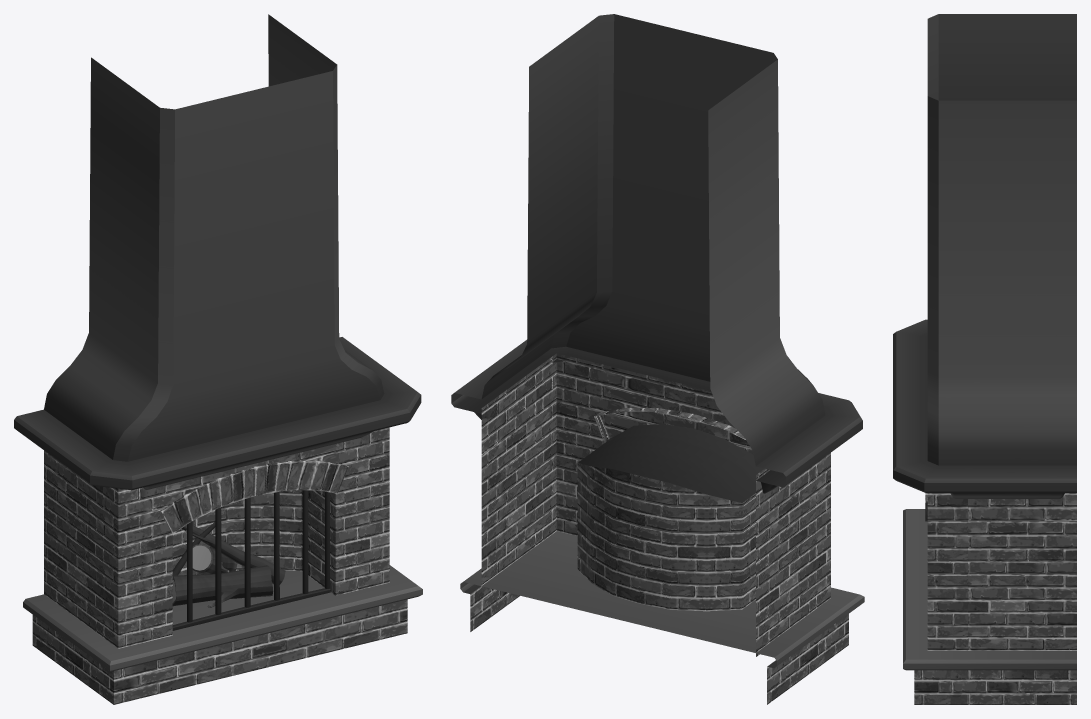
The model's file is Fireplace.fbx.
The picture shows the model from 3 angles, left to right: view 1: azimuth 30°, elevation 25°; view 2: azimuth 150°, elevation 25°; view 3: azimuth 270°, elevation 25°; orthographic projection.
Visible parts, largest first — view 1: fireplace; view 2: fireplace; view 3: fireplace.
Part boxes in pixels (<box>): fireplace: <box>14,14,422,704</box>; fireplace: <box>451,14,864,704</box>; fireplace: <box>893,14,1076,704</box>.
Size of the model in its own units: 2.52 by 4.17 by 1.21.
